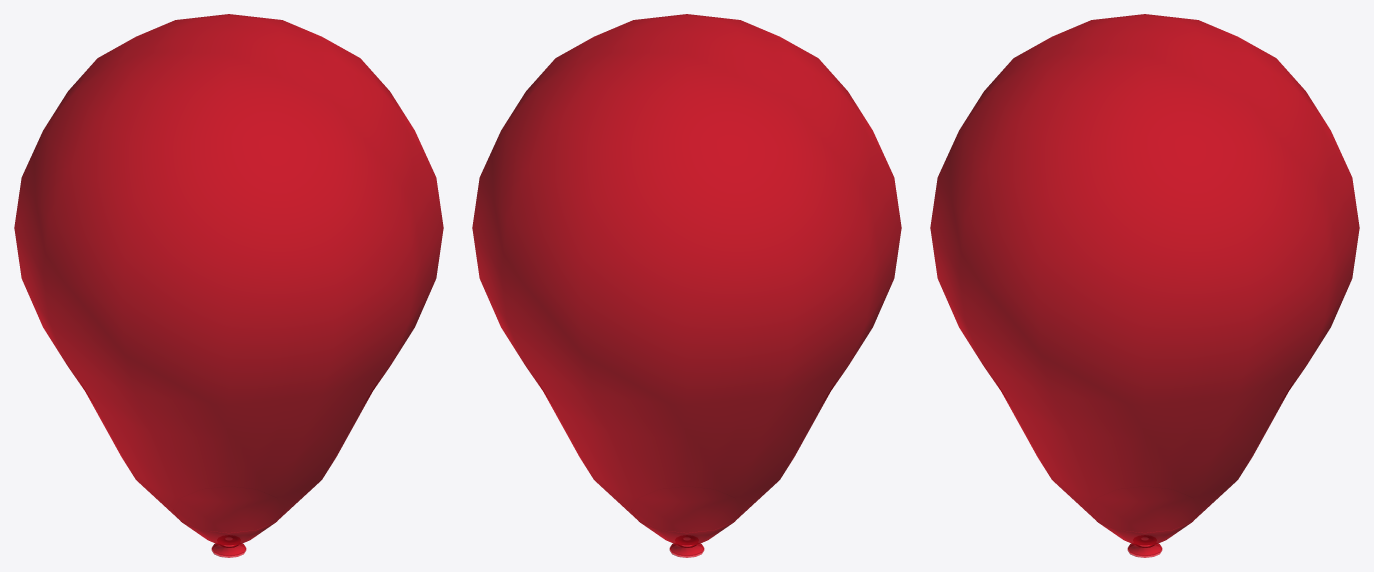
The model's file is balloon.fbx.
The picture shows the model from 3 angles, left to right: view 1: azimuth 30°, elevation 25°; view 2: azimuth 150°, elevation 25°; view 3: azimuth 270°, elevation 25°; orthographic projection.
Visible parts, largest first — view 1: Sphere; view 2: Sphere; view 3: Sphere.
Boxes of the visible parts, x1=… form: Sphere: x1=14, y1=14, x2=443, y2=557; Sphere: x1=472, y1=14, x2=901, y2=557; Sphere: x1=930, y1=14, x2=1359, y2=557.
Size of the model in its own units: 2 by 2.66 by 2.
